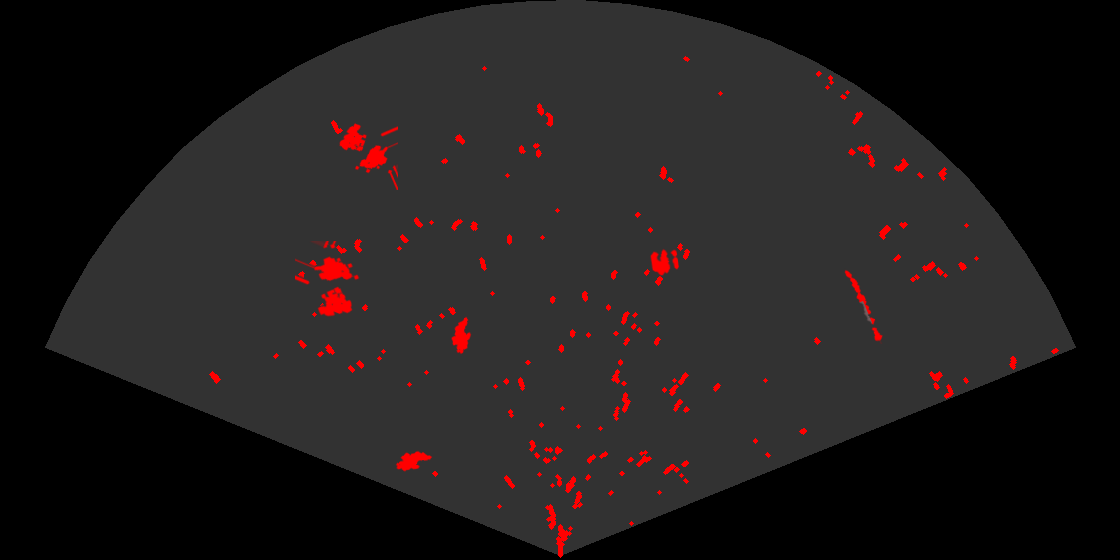AUV: (394, 449, 434, 473), (450, 315, 473, 356)
ball: (649, 247, 681, 277)
cage: (295, 241, 361, 318), (338, 121, 398, 190)
chain: (843, 268, 884, 344)
